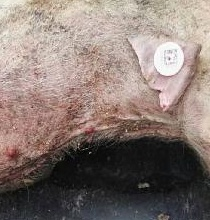text: (146, 36, 192, 84)
